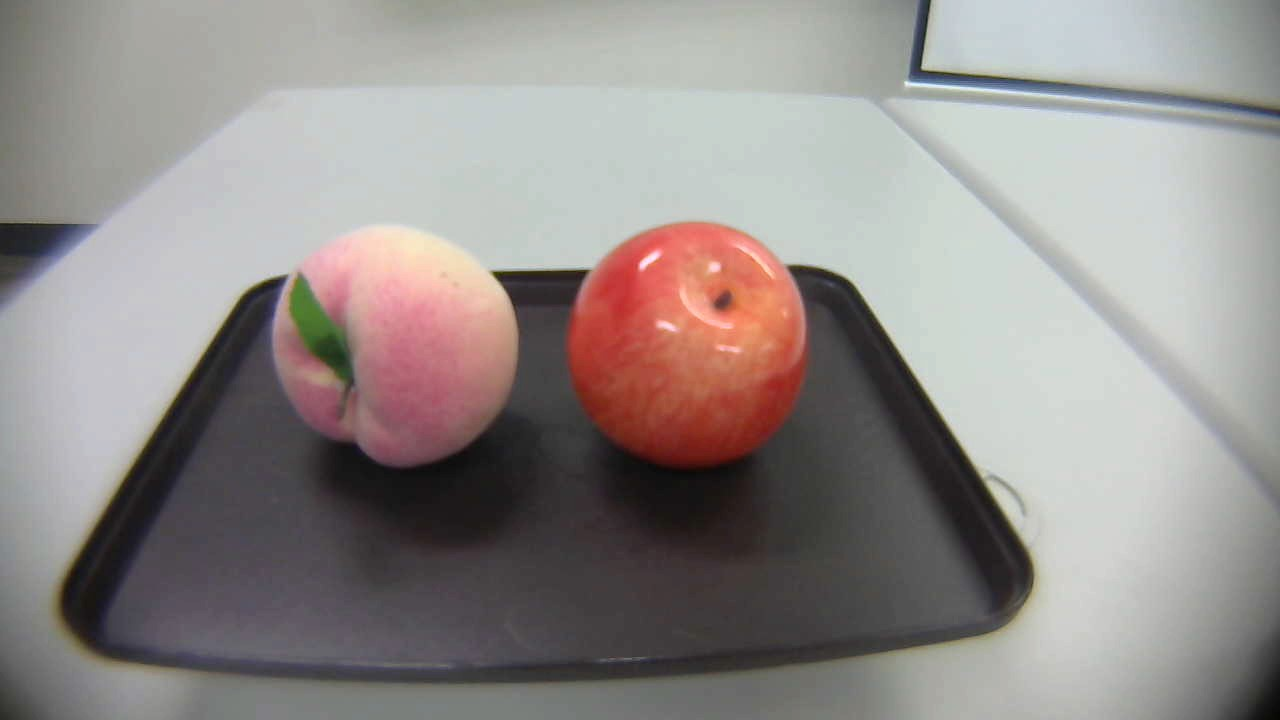peach: (249, 227, 536, 480)
red apple: (560, 222, 814, 476)
